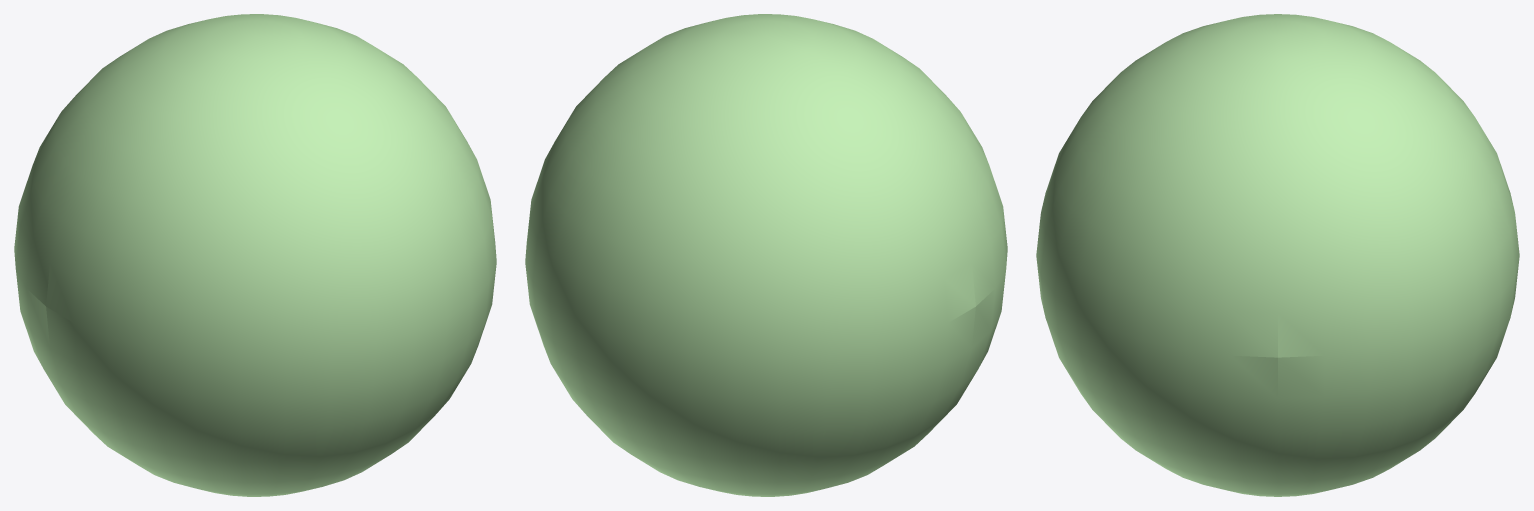
Rendered from bonus_5_.fbx.
The picture shows the model from 3 angles, left to right: view 1: azimuth 30°, elevation 25°; view 2: azimuth 150°, elevation 25°; view 3: azimuth 270°, elevation 25°; orthographic projection.
Visible parts, largest first — view 1: bonus_5; view 2: bonus_5; view 3: bonus_5.
Part boxes in pixels (left/top/right/bottom): bonus_5: left=14, top=14, right=496, bottom=496; bonus_5: left=525, top=14, right=1007, bottom=496; bonus_5: left=1036, top=14, right=1519, bottom=496.
Size of the model in its own units: 200 by 200 by 200.
